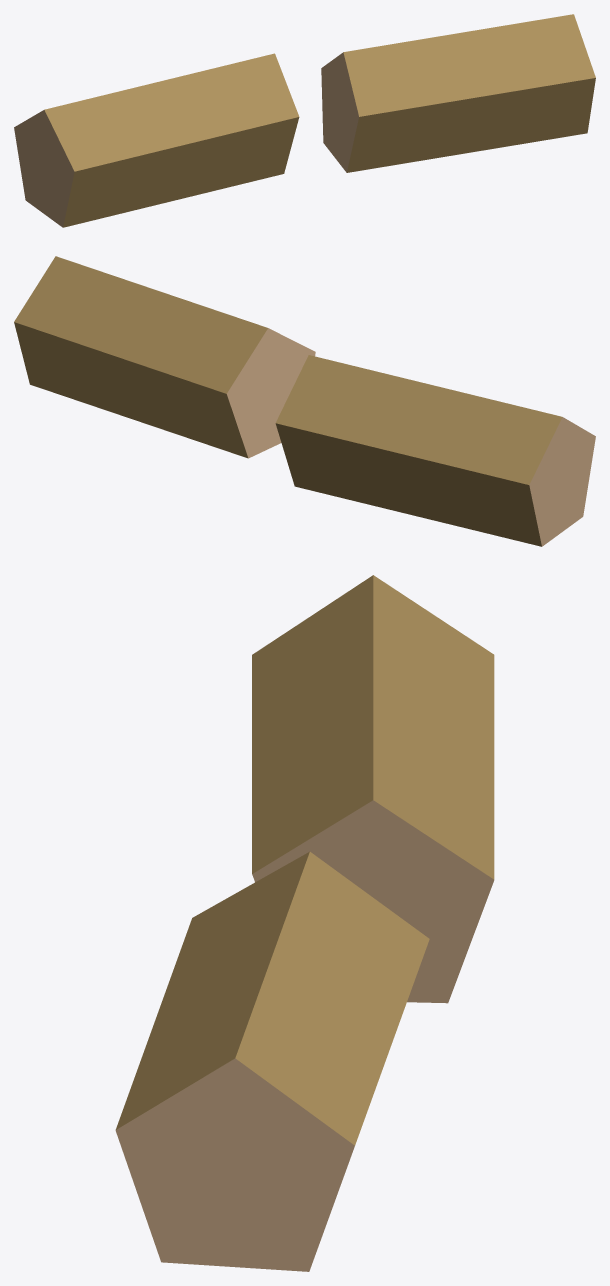
Rendered from Oak_Firewood_04_LOD.fbx.
The picture shows the model from 3 angles, top to bottom: view 1: azimuth 30°, elevation 25°; view 2: azimuth 150°, elevation 25°; view 3: azimuth 270°, elevation 25°; orthographic projection. The views are drawn at different scales.
Parts seen in each view (by area): view 1: Oak_Firewood_04_LOD0; view 2: Oak_Firewood_04_LOD0; view 3: Oak_Firewood_04_LOD0.
Part boxes in pixels (<box>): Oak_Firewood_04_LOD0: <box>14,14,595,227</box>; Oak_Firewood_04_LOD0: <box>14,256,595,546</box>; Oak_Firewood_04_LOD0: <box>115,575,494,1271</box>.
Size of what is drawn, in the model's own units: 63.31 by 12.56 by 20.65.
